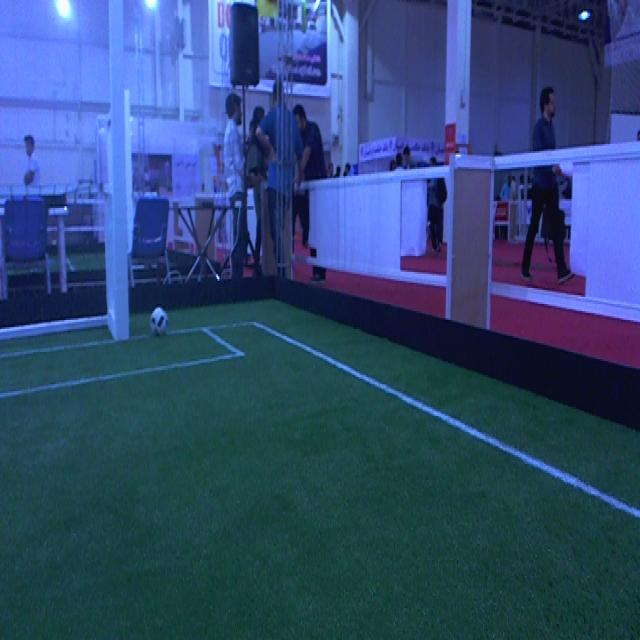ball: (149, 308, 167, 334)
goalpost: (110, 2, 129, 338)
